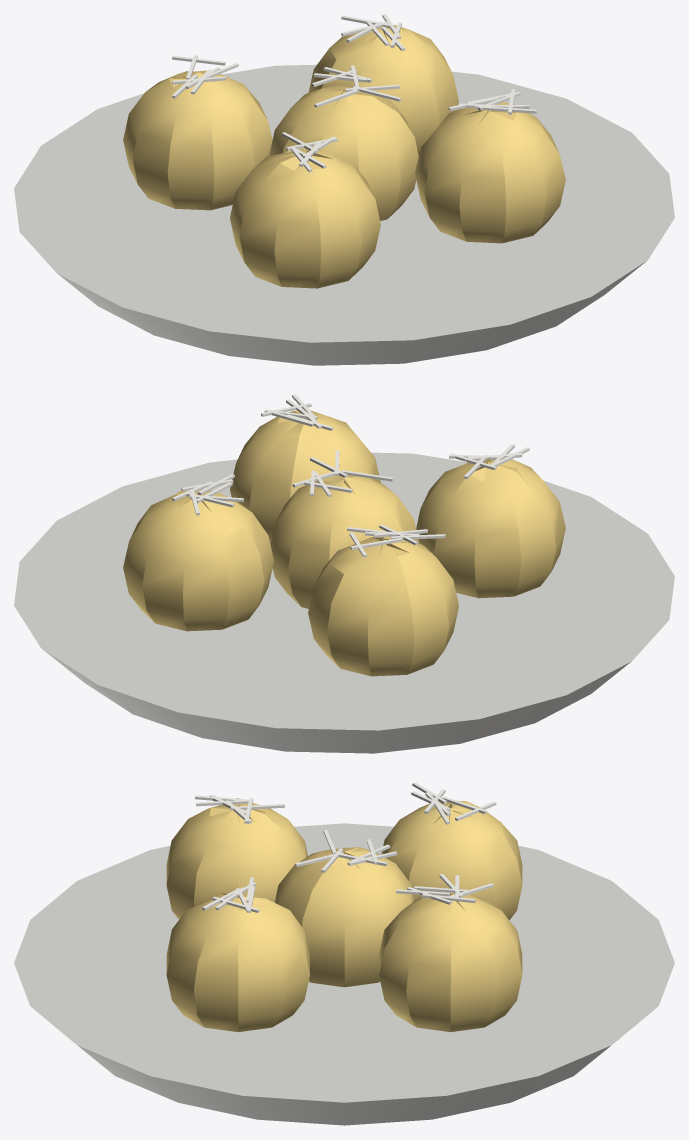
File: dia_banh_bo.glb
3 renders of one model, top to bottom at view 1: azimuth 30°, elevation 25°; view 2: azimuth 150°, elevation 25°; view 3: azimuth 270°, elevation 25°, orthographic.
Parts seen in each view (by area): view 1: dia_banh_bo.001; view 2: dia_banh_bo.001; view 3: dia_banh_bo.001.
Boxes of the visible parts, x1,y1,x2,y2 form: dia_banh_bo.001: (14,25,674,365); dia_banh_bo.001: (14,410,674,753); dia_banh_bo.001: (14,798,674,1125).
Size of the model in its own units: 0.28 by 0.0734 by 0.28.
